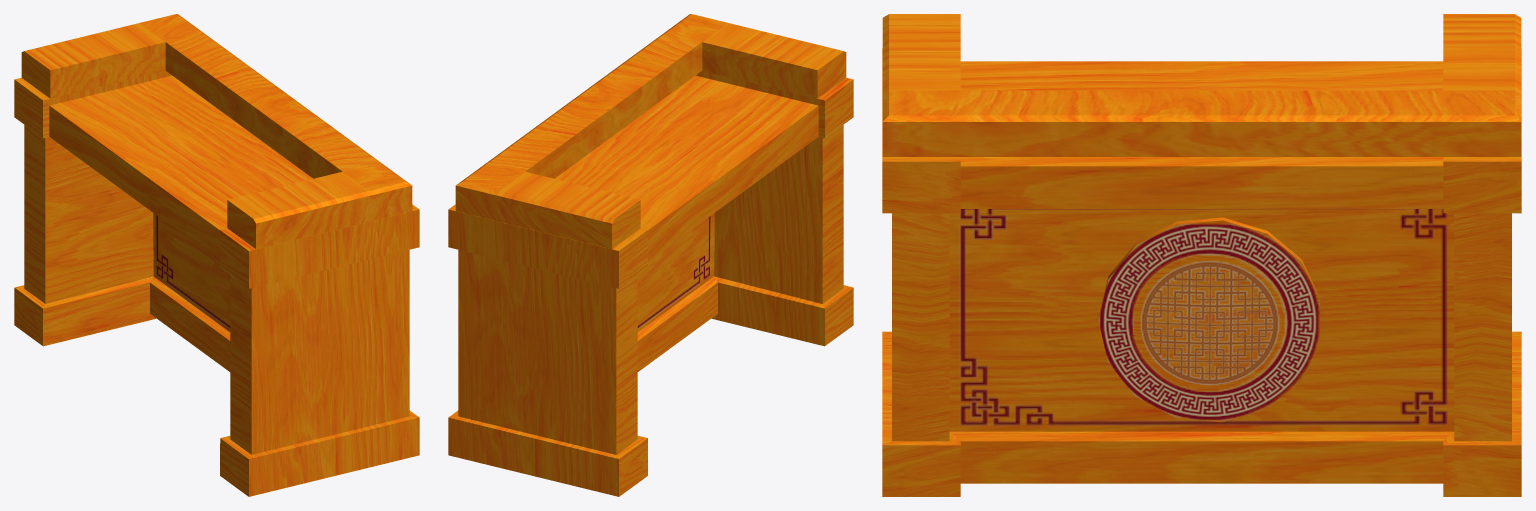
The model's file is Chinese Desk.fbx.
3 renders of one model, left to right at view 1: azimuth 30°, elevation 25°; view 2: azimuth 150°, elevation 25°; view 3: azimuth 270°, elevation 25°, orthographic. The views are drawn at different scales.
Visible parts, largest first — view 1: Main_Desk, Top_Desk; view 2: Main_Desk, Top_Desk; view 3: Main_Desk, Top_Desk, Symbol.
Boxes of the visible parts, x1=… form: Main_Desk: x1=14, y1=70, x2=419, y2=496; Top_Desk: x1=21, y1=14, x2=412, y2=249; Main_Desk: x1=448, y1=70, x2=853, y2=496; Top_Desk: x1=455, y1=14, x2=846, y2=249; Main_Desk: x1=882, y1=48, x2=1521, y2=496; Top_Desk: x1=882, y1=14, x2=1521, y2=156; Symbol: x1=1098, y1=217, x2=1320, y2=422.
Size of the model in its own units: 0.0407 by 0.0624 by 0.0967.
1 material, 1 textured.
